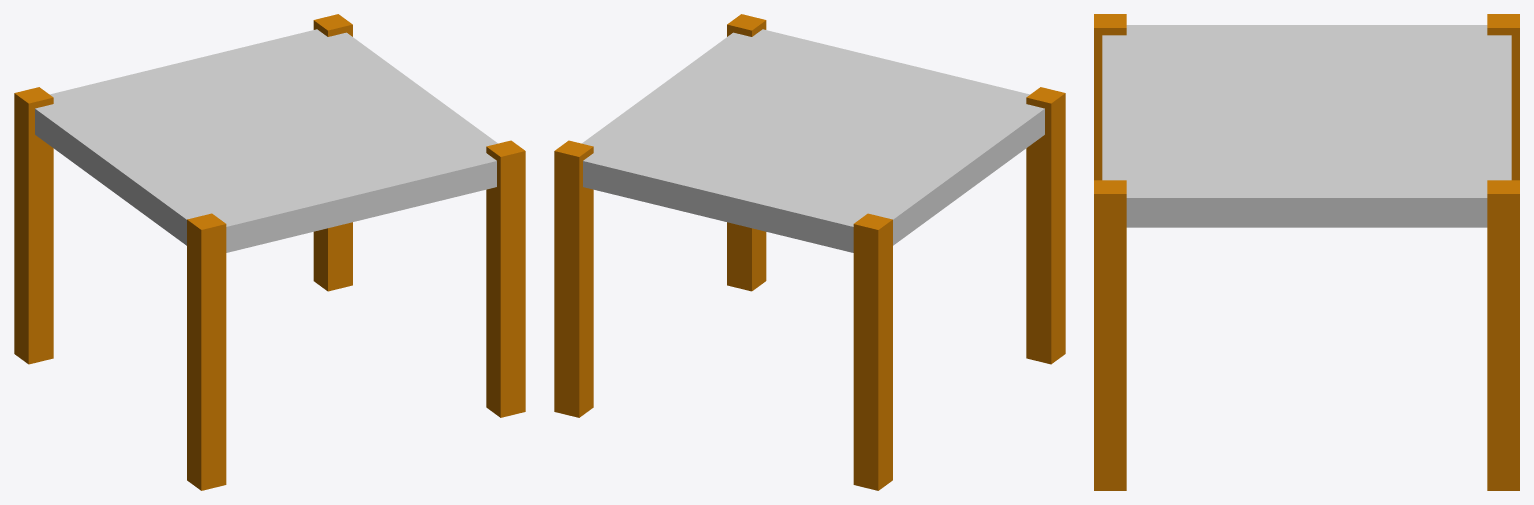
The picture shows the model from 3 angles, left to right: view 1: azimuth 30°, elevation 25°; view 2: azimuth 150°, elevation 25°; view 3: azimuth 270°, elevation 25°; orthographic projection. The views are drawn at different scales.
Visible parts, largest first — view 1: node_MeshObject1630260224-PolyPaper21; view 2: node_MeshObject1630260224-PolyPaper21; view 3: node_MeshObject1630260224-PolyPaper21.
Part boxes in pixels (left/top/right/bottom): node_MeshObject1630260224-PolyPaper21: left=14, top=14, right=525, bottom=490; node_MeshObject1630260224-PolyPaper21: left=554, top=14, right=1065, bottom=490; node_MeshObject1630260224-PolyPaper21: left=1094, top=14, right=1519, bottom=490.
Bounding box in the file's own units: 1.04 × 0.8002 × 1.04.
